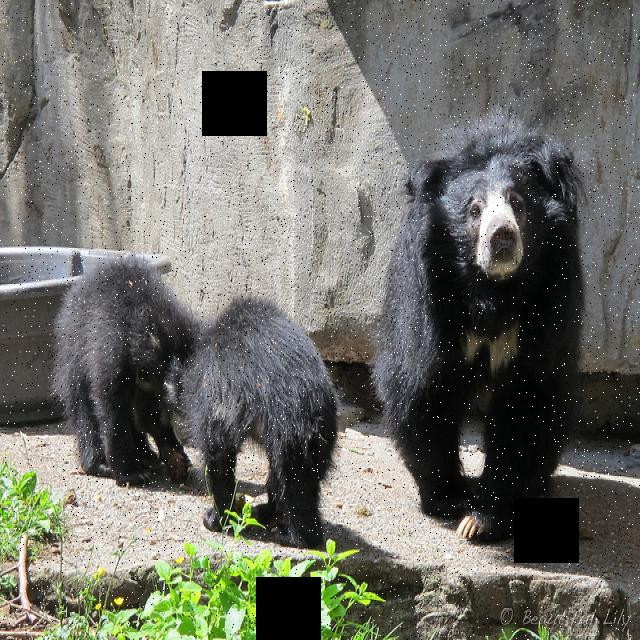Bear: (386, 106, 592, 542), (153, 299, 355, 549), (44, 253, 203, 503)
